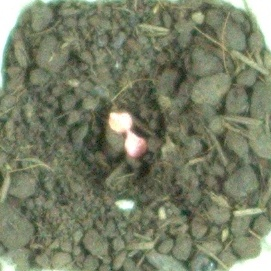pepper seed: (47, 50, 196, 210), (39, 43, 174, 177)
